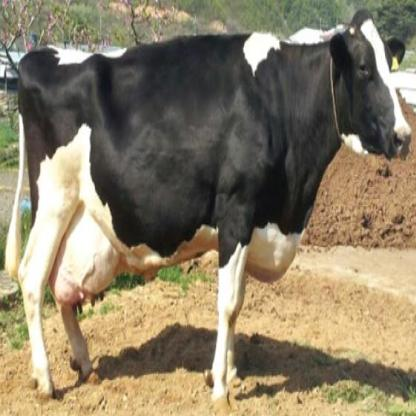cow: (5, 11, 410, 403)
